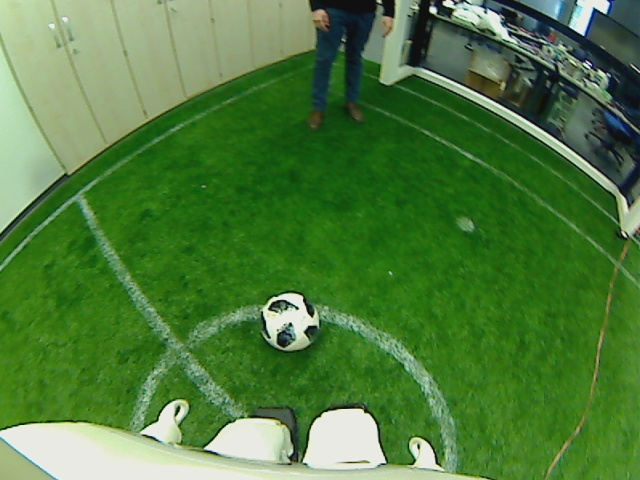ball: (257, 291, 324, 353)
